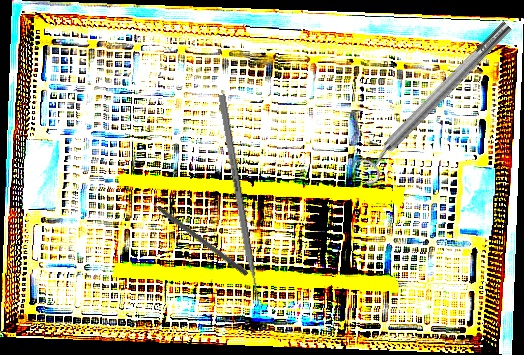Fixation Ring: (347, 14, 521, 189)
Pusher: (217, 94, 265, 320), (138, 190, 250, 277)
